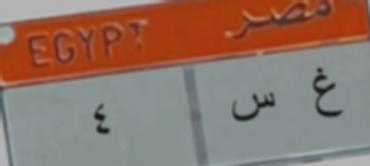4: (87, 101, 114, 140)
ghayn: (306, 61, 347, 126)
seen: (224, 89, 278, 126)
